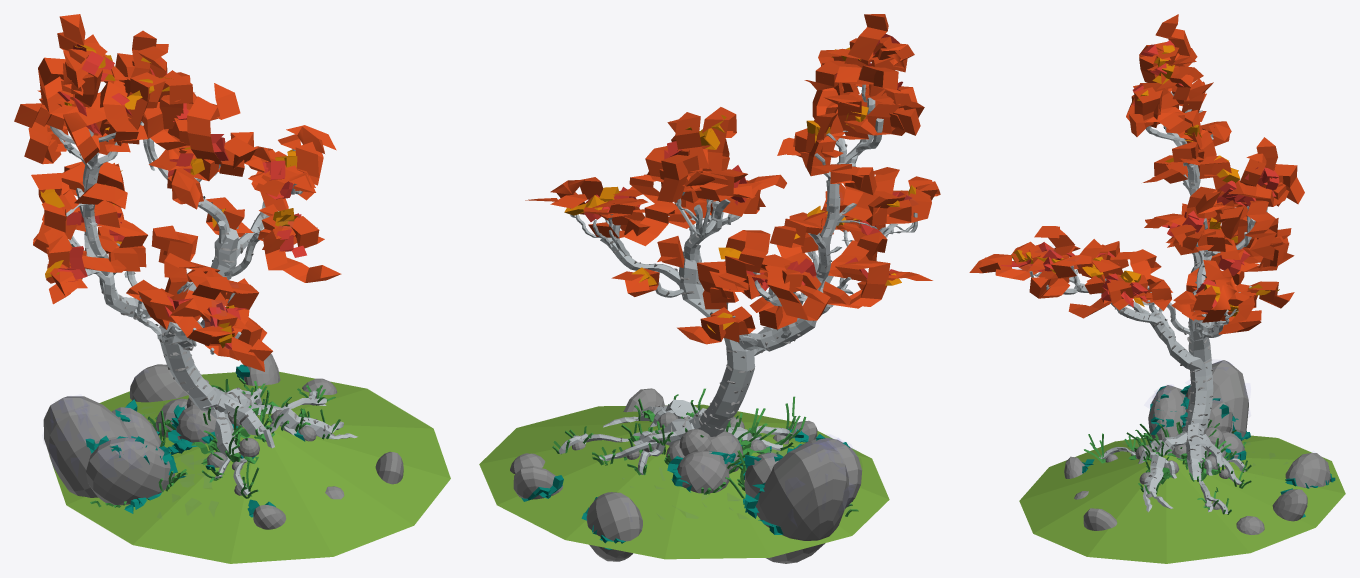
Rendered from modelDraco.gltf.
3 renders of one model, left to right at view 1: azimuth 30°, elevation 25°; view 2: azimuth 150°, elevation 25°; view 3: azimuth 270°, elevation 25°, orthographic. The views are drawn at different scales.
Visible parts, largest first — view 1: node_MeshObject-1475797376-PolyPaper22, node_MeshObject-957077312-PolyPaper22, node_MeshObject-1381404608-PolyPaper22, node_MeshObject690412480-PolyPaper22, node_MeshObject729715712-PolyPaper22, node_MeshObject-680740928-PolyPaper15, node_MeshObject370776384-PolyPaper10, node_MeshObject-1199460992-PolyPaper15; view 2: node_MeshObject-957077312-PolyPaper22, node_MeshObject-1475797376-PolyPaper22, node_MeshObject690412480-PolyPaper22, node_MeshObject-1381404608-PolyPaper22, node_MeshObject-680740928-PolyPaper15, node_MeshObject729715712-PolyPaper22, node_MeshObject-1199460992-PolyPaper15, node_MeshObject370776384-PolyPaper10; view 3: node_MeshObject-1475797376-PolyPaper22, node_MeshObject-957077312-PolyPaper22, node_MeshObject-1381404608-PolyPaper22, node_MeshObject690412480-PolyPaper22, node_MeshObject729715712-PolyPaper22, node_MeshObject-680740928-PolyPaper15, node_MeshObject370776384-PolyPaper10, node_MeshObject-1199460992-PolyPaper15.
Boxes of the visible parts, x1,y1,x2,y2 form: node_MeshObject-1475797376-PolyPaper22: (49,371,450,563); node_MeshObject-957077312-PolyPaper22: (14,14,336,470); node_MeshObject-1381404608-PolyPaper22: (83,151,341,484); node_MeshObject690412480-PolyPaper22: (43,354,403,529); node_MeshObject729715712-PolyPaper22: (40,44,325,431); node_MeshObject-680740928-PolyPaper15: (69,129,357,495); node_MeshObject370776384-PolyPaper10: (147,109,318,498); node_MeshObject-1199460992-PolyPaper15: (50,121,269,354); node_MeshObject-957077312-PolyPaper22: (525,14,932,493); node_MeshObject-1475797376-PolyPaper22: (479,388,889,559); node_MeshObject690412480-PolyPaper22: (510,388,862,563); node_MeshObject-1381404608-PolyPaper22: (583,167,940,442); node_MeshObject-680740928-PolyPaper15: (559,134,873,474); node_MeshObject729715712-PolyPaper22: (564,33,915,463); node_MeshObject-1199460992-PolyPaper15: (600,68,913,345); node_MeshObject370776384-PolyPaper10: (630,209,852,494); node_MeshObject-1475797376-PolyPaper22: (1019,419,1345,563); node_MeshObject-957077312-PolyPaper22: (1084,14,1304,460); node_MeshObject-1381404608-PolyPaper22: (969,164,1213,496); node_MeshObject690412480-PolyPaper22: (1064,360,1335,534); node_MeshObject729715712-PolyPaper22: (1001,40,1279,507); node_MeshObject-680740928-PolyPaper15: (1029,125,1267,514); node_MeshObject370776384-PolyPaper10: (1084,191,1246,481); node_MeshObject-1199460992-PolyPaper15: (1034,91,1267,337).
Bounding box in the file's own units: 1.67 × 2.13 × 1.65.
